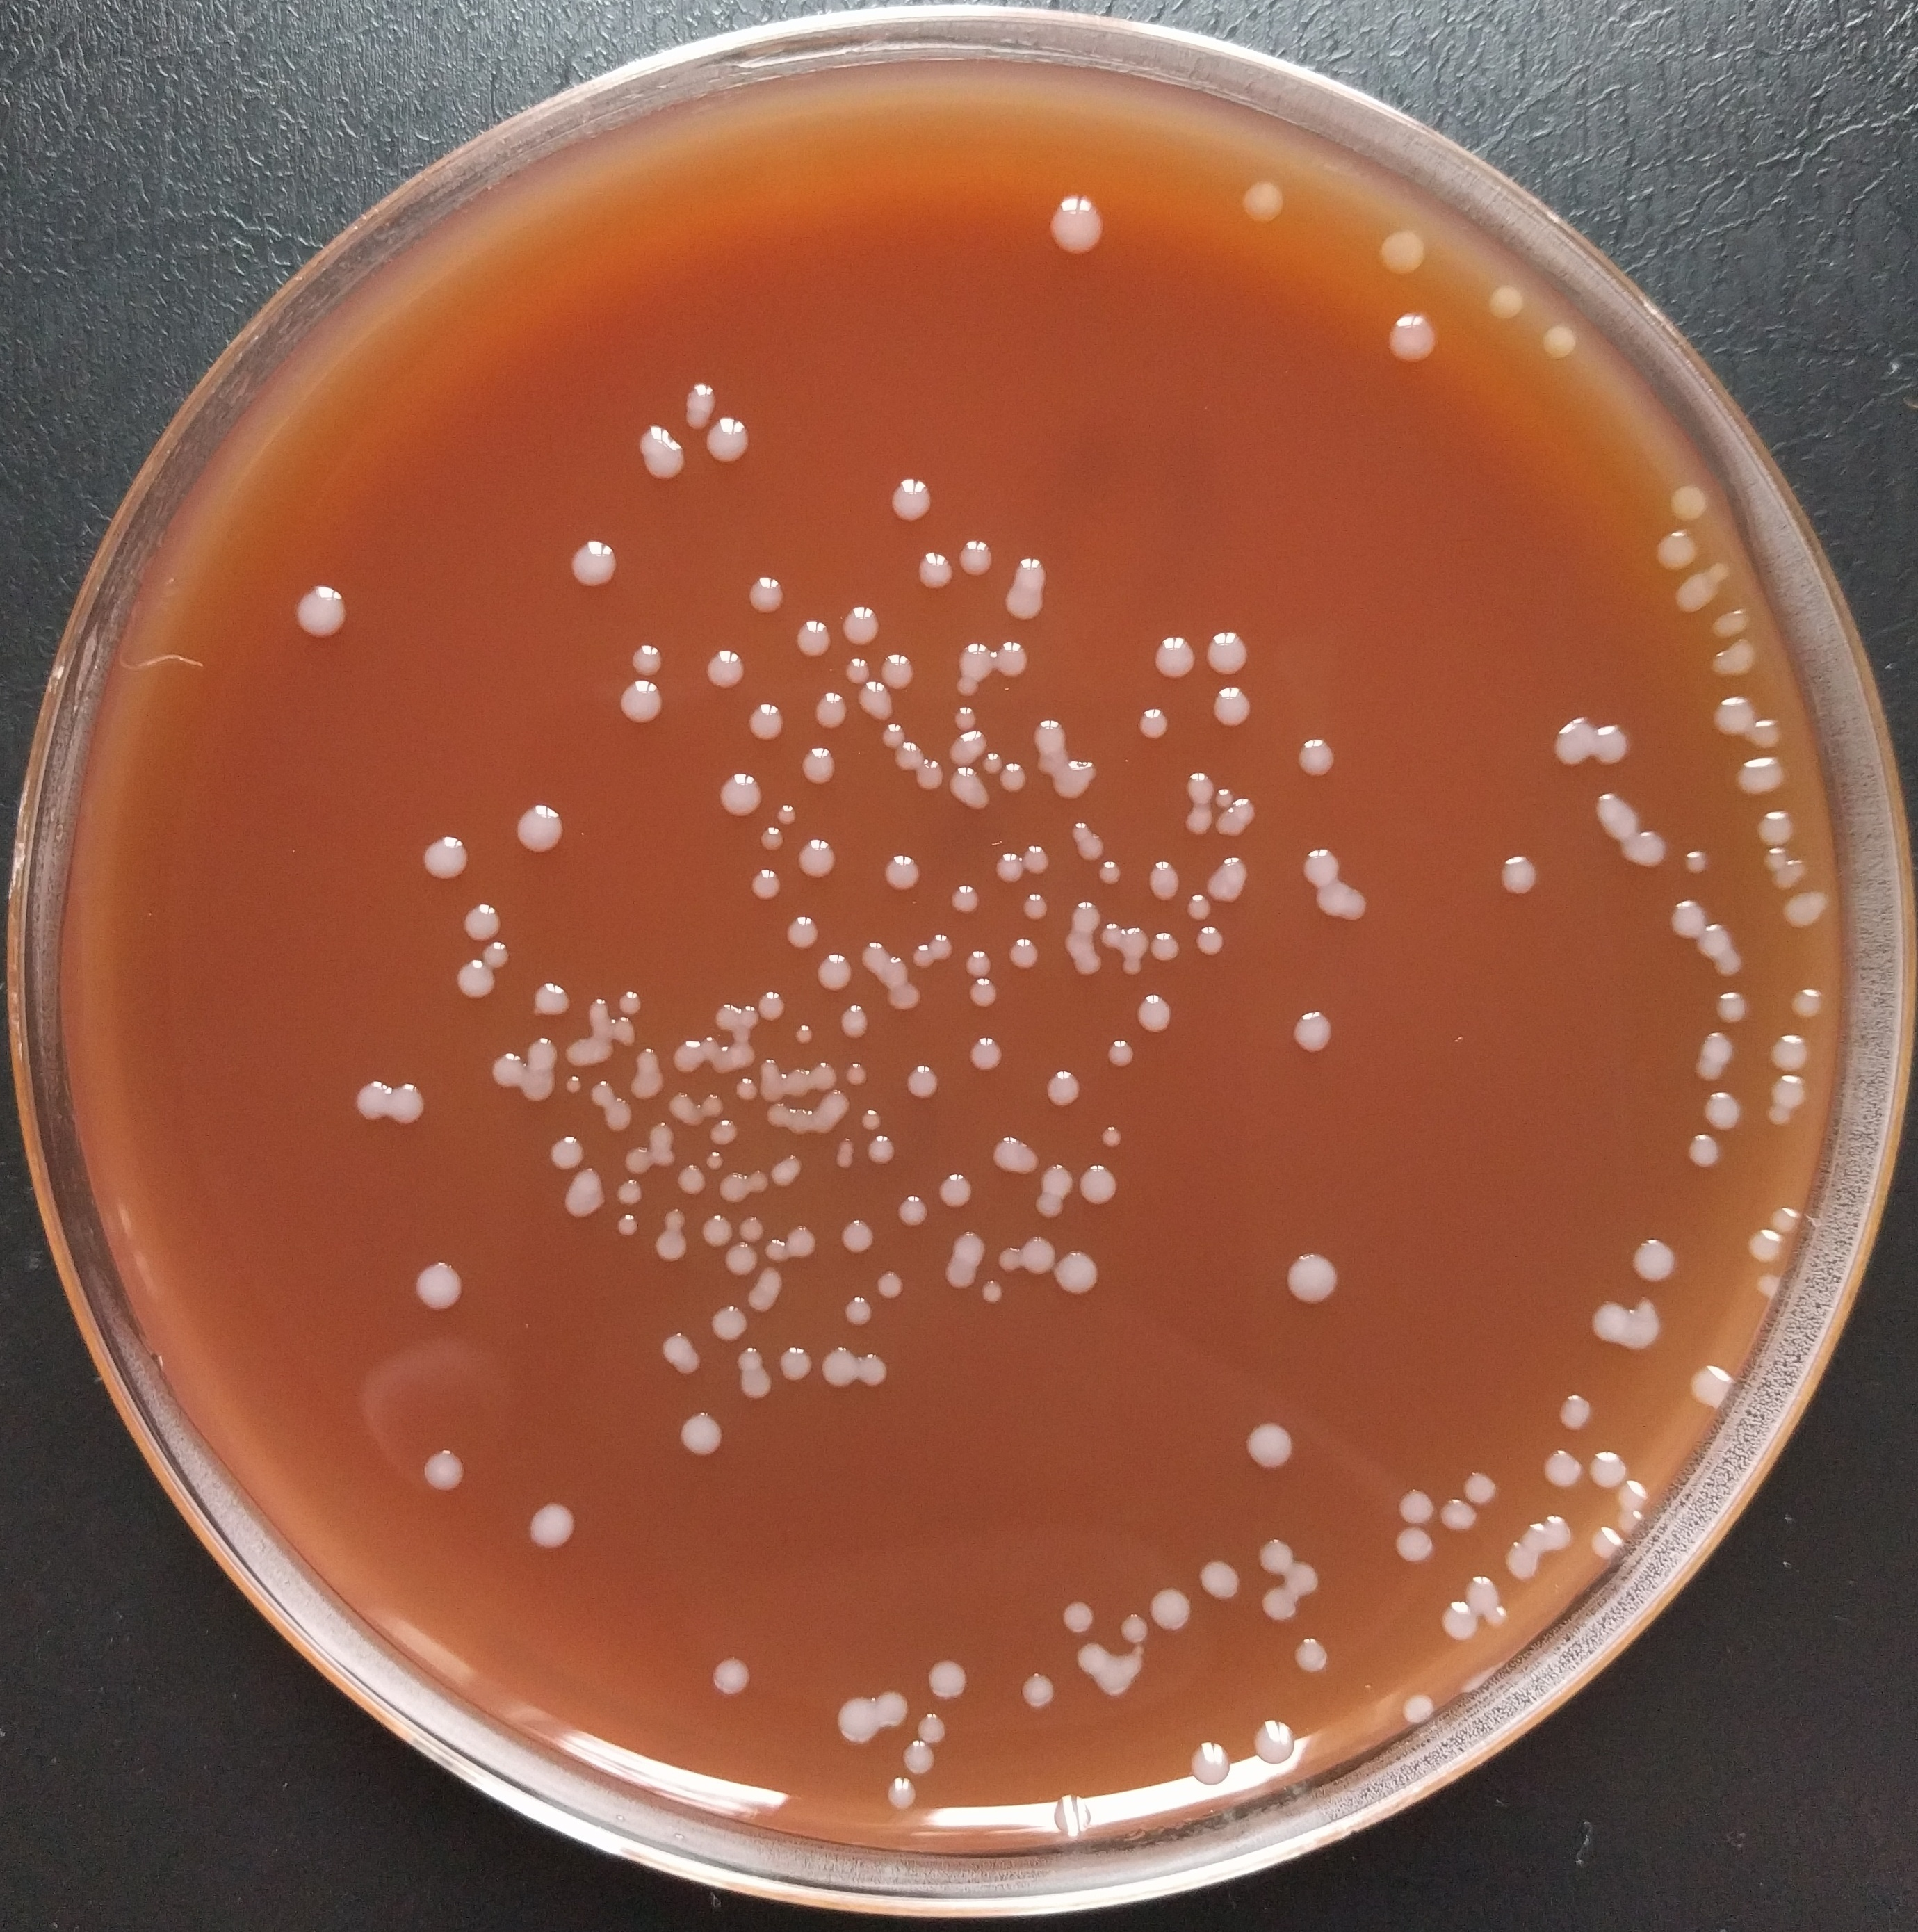sp16: (278, 574, 362, 655), (513, 1488, 599, 1560), (1275, 1235, 1351, 1310), (1375, 299, 1444, 376), (1077, 1640, 1150, 1709), (504, 797, 578, 862), (406, 827, 483, 887), (407, 1440, 476, 1507), (1042, 195, 1107, 260), (1672, 559, 1739, 620), (557, 537, 631, 592), (553, 1166, 618, 1226), (876, 474, 943, 532), (625, 422, 683, 488), (1370, 223, 1431, 285), (1233, 1417, 1298, 1474), (699, 411, 759, 471), (1586, 787, 1644, 848), (406, 1258, 469, 1312), (1198, 624, 1256, 681), (1609, 820, 1669, 876), (673, 1409, 731, 1465), (1781, 883, 1841, 938), (1728, 750, 1792, 801), (1203, 681, 1265, 732), (1177, 1737, 1235, 1790), (708, 768, 768, 818), (1143, 634, 1205, 683), (1238, 174, 1291, 230), (1049, 1245, 1101, 1301), (1289, 1008, 1340, 1064), (1705, 631, 1756, 687), (1191, 1554, 1247, 1605), (652, 1326, 708, 1377), (1551, 711, 1600, 769), (1679, 1126, 1732, 1179), (1584, 1294, 1628, 1358), (1145, 1584, 1198, 1637), (1289, 732, 1340, 787), (1702, 688, 1756, 739), (1655, 889, 1705, 943), (1628, 1236, 1679, 1291), (829, 1697, 880, 1751), (710, 1653, 761, 1707), (834, 602, 891, 652), (613, 674, 669, 724), (738, 699, 794, 748), (1245, 1718, 1301, 1767), (697, 645, 755, 692), (1033, 1068, 1094, 1112), (1484, 278, 1535, 330), (940, 764, 991, 817), (1049, 752, 1101, 803), (792, 833, 845, 883), (810, 1345, 864, 1395), (1539, 1442, 1584, 1500), (1688, 1361, 1739, 1412), (792, 741, 845, 790), (1316, 878, 1368, 927), (1579, 1438, 1628, 1491), (388, 1078, 437, 1131), (1751, 804, 1802, 854), (738, 567, 790, 615), (1391, 1484, 1444, 1532), (1077, 1161, 1124, 1214), (987, 1135, 1043, 1179), (1623, 1300, 1665, 1358), (727, 1363, 785, 1405), (1741, 1221, 1790, 1270), (876, 848, 927, 896), (527, 978, 578, 1026), (920, 1656, 973, 1702), (673, 376, 717, 430), (1646, 529, 1700, 573), (1145, 855, 1187, 912), (1588, 717, 1630, 773), (787, 615, 838, 660), (1435, 1595, 1481, 1646), (1540, 314, 1584, 367), (1554, 1386, 1598, 1438), (457, 901, 513, 941), (855, 1347, 903, 1395), (896, 1059, 945, 1105), (1665, 481, 1714, 527), (1698, 1085, 1744, 1135), (539, 1129, 588, 1175), (448, 959, 497, 1005), (741, 866, 792, 910), (1003, 934, 1054, 978), (1207, 855, 1251, 906), (1498, 848, 1542, 899), (933, 1168, 984, 1212), (811, 1084, 855, 1135), (998, 585, 1050, 627), (1131, 701, 1179, 746), (1133, 989, 1179, 1036), (1287, 1632, 1337, 1676), (808, 685, 850, 736), (1010, 1672, 1061, 1714), (1762, 854, 1814, 894), (743, 1272, 789, 1317), (964, 1031, 1012, 1075), (348, 1082, 392, 1129), (940, 727, 991, 768), (1389, 1523, 1433, 1568), (1539, 1509, 1581, 1556), (1502, 1539, 1544, 1586), (704, 1301, 752, 1344), (706, 1164, 748, 1212), (855, 674, 896, 724), (485, 1049, 525, 1098), (943, 878, 987, 922), (1458, 1467, 1502, 1510), (875, 648, 917, 694), (1282, 1553, 1321, 1602), (1433, 1496, 1484, 1533), (910, 551, 954, 594), (1175, 764, 1221, 804), (513, 1063, 553, 1108), (834, 1291, 880, 1331), (599, 1010, 646, 1049), (1763, 1068, 1811, 1107), (1015, 1231, 1054, 1279), (1049, 1791, 1098, 1828), (641, 1121, 678, 1170), (876, 978, 927, 1013), (1008, 551, 1050, 594), (987, 639, 1029, 681), (1786, 984, 1830, 1024), (1698, 1027, 1742, 1068), (1769, 1031, 1809, 1075), (1035, 1157, 1075, 1201), (764, 1149, 804, 1193), (1017, 841, 1063, 880), (776, 912, 822, 950), (934, 1256, 980, 1294), (648, 1228, 694, 1266), (564, 1033, 616, 1066), (954, 636, 991, 683), (811, 950, 852, 992), (1251, 1533, 1291, 1575), (782, 1221, 824, 1261), (836, 1001, 875, 1045), (963, 975, 1006, 1013), (520, 1033, 564, 1071), (866, 1129, 903, 1175), (620, 639, 667, 674), (1301, 845, 1344, 883), (1057, 1597, 1100, 1635), (873, 1688, 912, 1730), (834, 1217, 876, 1256), (899, 1737, 936, 1781), (1744, 713, 1790, 748), (1591, 1519, 1625, 1567), (666, 1087, 699, 1135), (961, 532, 991, 585), (1709, 987, 1748, 1027), (776, 1344, 815, 1384), (892, 1193, 931, 1233), (671, 1161, 711, 1200), (597, 1098, 636, 1138), (1700, 940, 1744, 975), (1518, 1519, 1561, 1554), (752, 987, 790, 1026), (948, 1224, 987, 1263), (1017, 885, 1054, 926), (1149, 927, 1186, 968), (476, 933, 513, 973), (1258, 1584, 1298, 1621), (609, 1177, 650, 1214), (673, 1034, 708, 1077), (1614, 1472, 1649, 1514), (1066, 948, 1110, 982), (915, 750, 947, 796), (1463, 1572, 1500, 1611), (871, 1268, 910, 1305), (724, 1238, 759, 1279), (578, 994, 608, 1042), (945, 701, 987, 734), (878, 1774, 920, 1807), (1765, 1200, 1802, 1236), (1119, 922, 1154, 961), (1398, 1690, 1433, 1728), (1026, 717, 1066, 750), (1172, 804, 1212, 838), (627, 1047, 667, 1080), (1709, 601, 1749, 634), (694, 1214, 736, 1245), (991, 848, 1027, 883), (1115, 1612, 1150, 1649), (1210, 806, 1244, 845), (1187, 922, 1226, 955), (838, 1057, 876, 1091), (1756, 833, 1788, 873), (908, 1712, 948, 1744), (964, 941, 994, 984), (1057, 898, 1100, 927), (1690, 1052, 1732, 1082), (761, 1236, 803, 1266), (927, 926, 955, 970), (611, 987, 648, 1020), (657, 1203, 694, 1236), (629, 1068, 666, 1101), (998, 755, 1029, 794), (977, 1273, 1008, 1312), (1180, 887, 1214, 922), (739, 1164, 773, 1200), (1229, 794, 1261, 831), (618, 1142, 650, 1179), (703, 1115, 739, 1147), (891, 734, 920, 773), (1029, 1191, 1068, 1221), (833, 1133, 862, 1171), (975, 748, 1008, 782), (804, 1059, 840, 1091), (854, 936, 883, 973), (905, 941, 934, 978), (1107, 1031, 1136, 1068), (557, 1071, 594, 1101), (1674, 847, 1711, 876), (1698, 922, 1728, 959), (1077, 833, 1110, 864), (1762, 1098, 1795, 1129), (1611, 1507, 1644, 1539), (1035, 746, 1070, 776), (727, 1040, 762, 1070), (1092, 917, 1121, 954), (729, 1344, 766, 1372), (992, 1245, 1024, 1277), (1094, 1119, 1126, 1150), (1094, 854, 1124, 887), (1477, 1598, 1511, 1628), (581, 1080, 616, 1108), (713, 996, 743, 1027), (1755, 1270, 1786, 1300), (736, 1215, 768, 1245), (729, 1078, 761, 1108), (880, 722, 910, 752), (782, 1066, 808, 1099), (757, 1101, 792, 1126), (843, 653, 871, 683), (773, 797, 801, 827), (755, 824, 787, 850), (790, 1020, 818, 1049), (1064, 927, 1094, 954), (697, 1091, 727, 1117), (950, 673, 982, 697), (1061, 817, 1098, 838), (1114, 954, 1140, 982), (725, 1020, 755, 1045), (861, 1108, 885, 1138), (615, 1210, 645, 1235), (785, 1105, 810, 1135), (699, 1149, 727, 1173), (1210, 787, 1235, 810), (734, 1001, 757, 1026)
